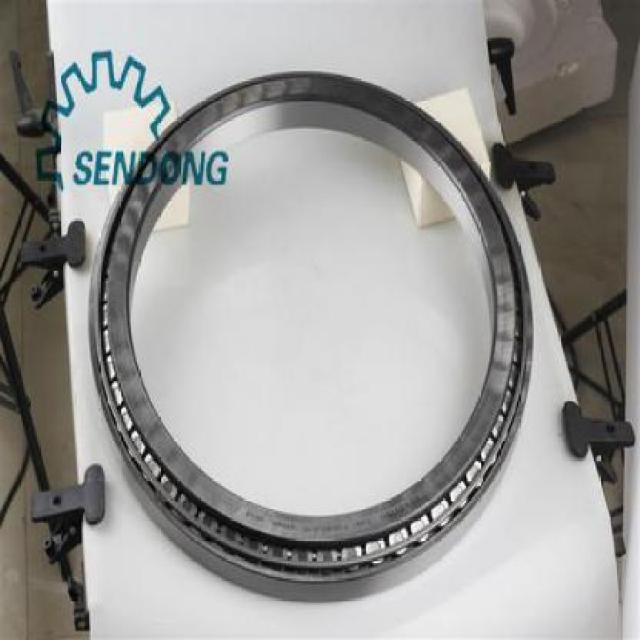Bearing: (86, 69, 532, 605)
